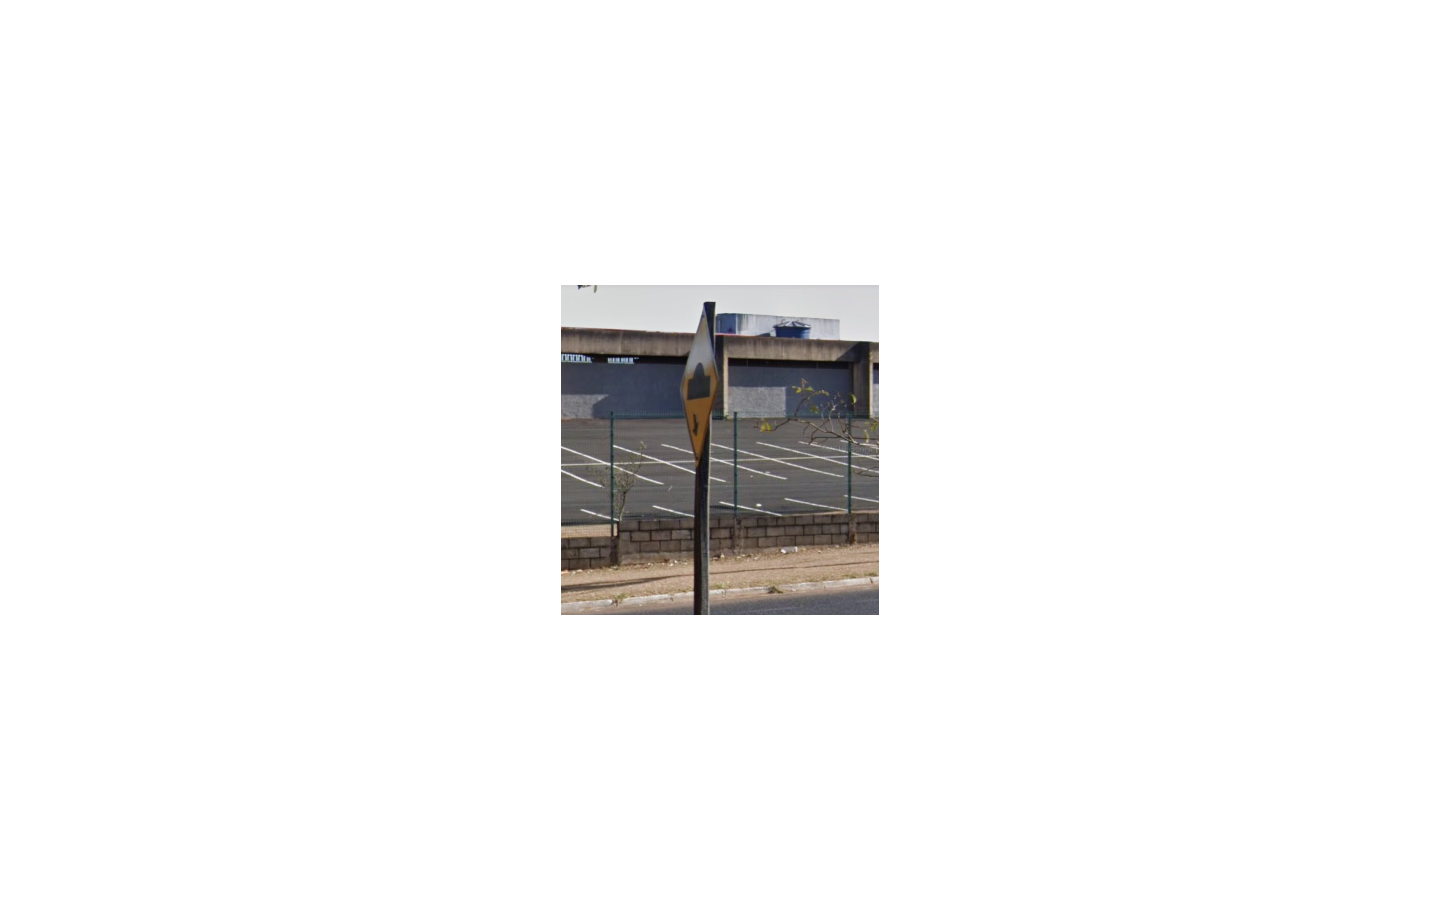lomb: (679, 310, 721, 463)
